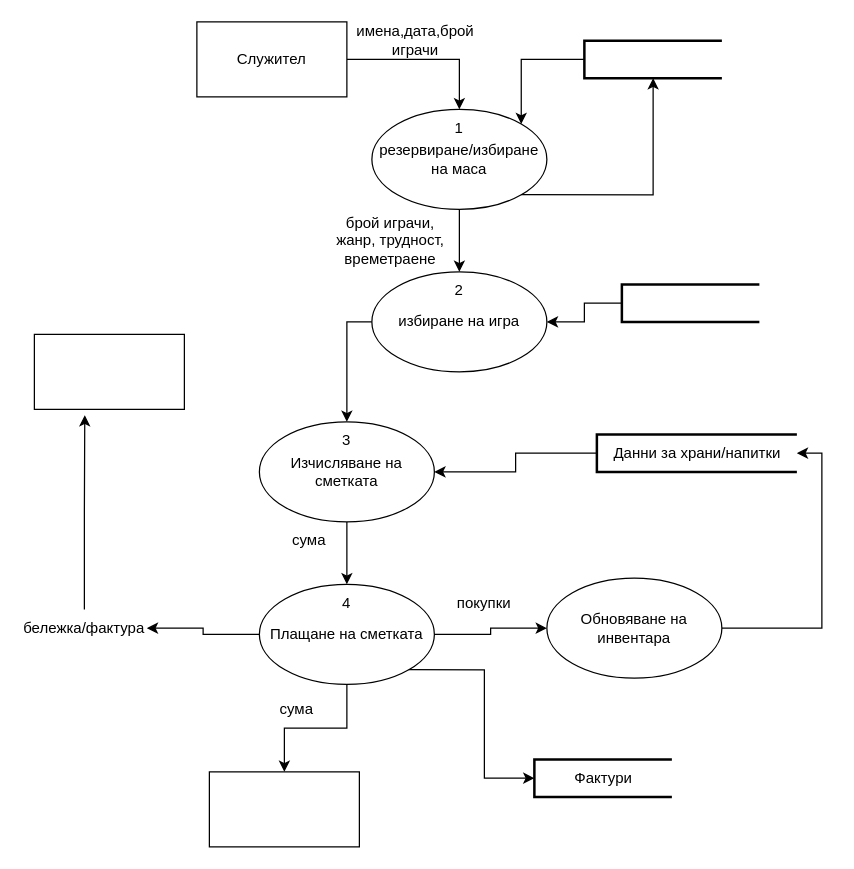
This 854x869 diagram has some shape labels left out. Here are the shapes that lost their labels. From the top down, the centre of each, then its label:
the point at 652,59: Данни за маси
the point at 690,302: Данни за игри
the point at 108,371: Клиент
the point at 283,809: пос терминал/банка
